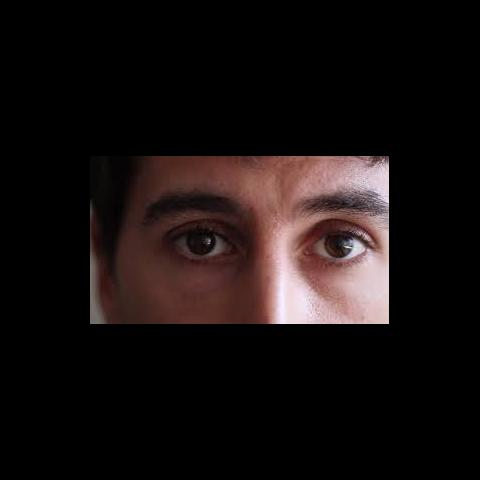opened: (146, 190, 390, 272)
